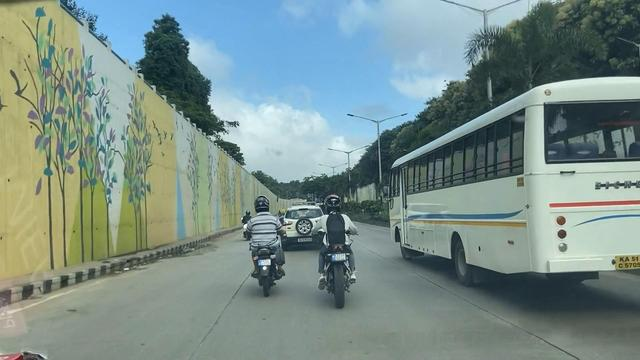HMV: (392, 81, 640, 280)
LMV: (316, 204, 356, 303), (252, 205, 288, 286), (284, 207, 322, 247)
